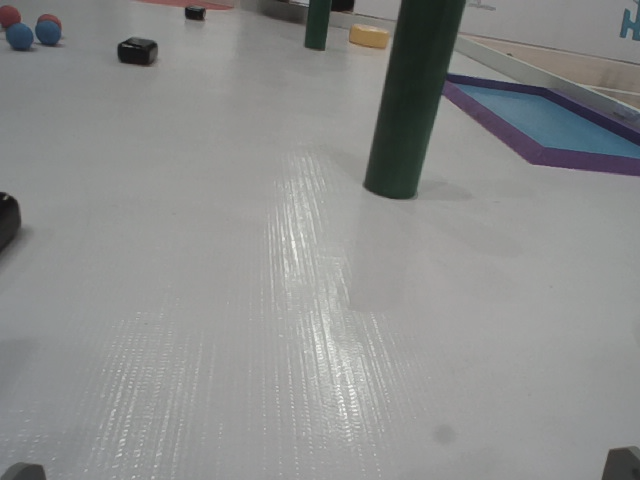black: (1, 189, 24, 253), (115, 36, 160, 64), (185, 4, 210, 19)
blue: (6, 24, 34, 49), (35, 23, 57, 47)
kuang: (438, 70, 640, 178)
red: (1, 6, 24, 31), (37, 13, 61, 31)
yellow: (346, 24, 390, 52)
zhuzi: (362, 1, 467, 202), (304, 1, 336, 50)
